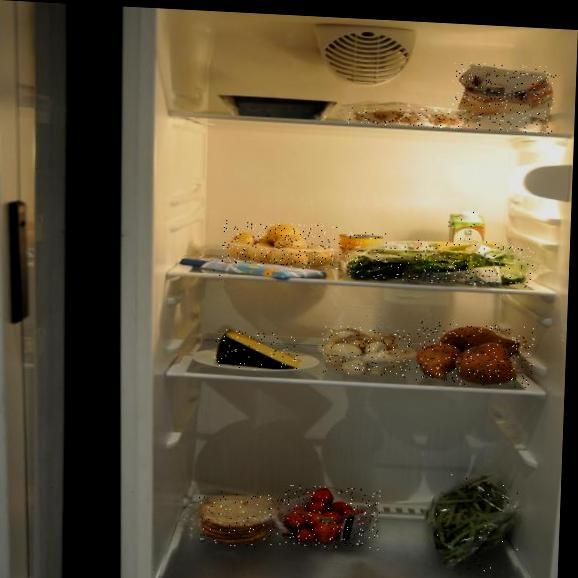bread: (197, 490, 281, 549)
cheese: (214, 329, 299, 372)
chocolate: (177, 255, 331, 282)
corn: (334, 231, 386, 281)
flour: (451, 62, 557, 134)
green_beans: (425, 472, 523, 573)
heavy_cream: (447, 209, 488, 275)
mushrooms: (320, 325, 412, 378)
potato: (222, 220, 341, 269)
shrimp: (348, 106, 462, 129)
spinach: (340, 236, 534, 288)
strawberries: (278, 485, 381, 550)
sweet_potato: (416, 321, 535, 388)
